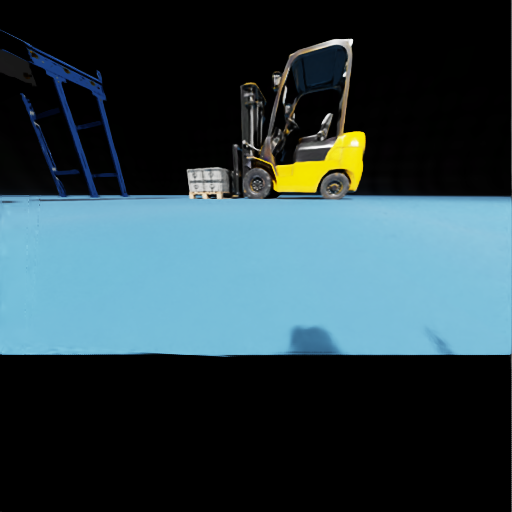transportation_area: (204, 180, 233, 191)
